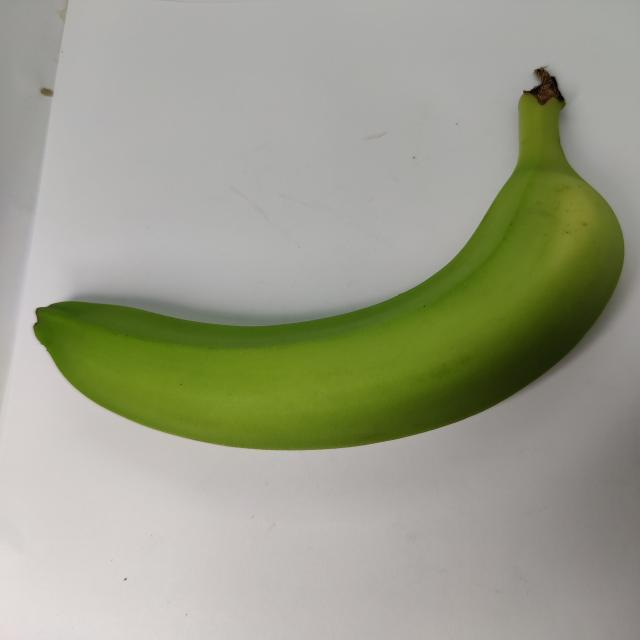raw: (0, 50, 640, 463)
